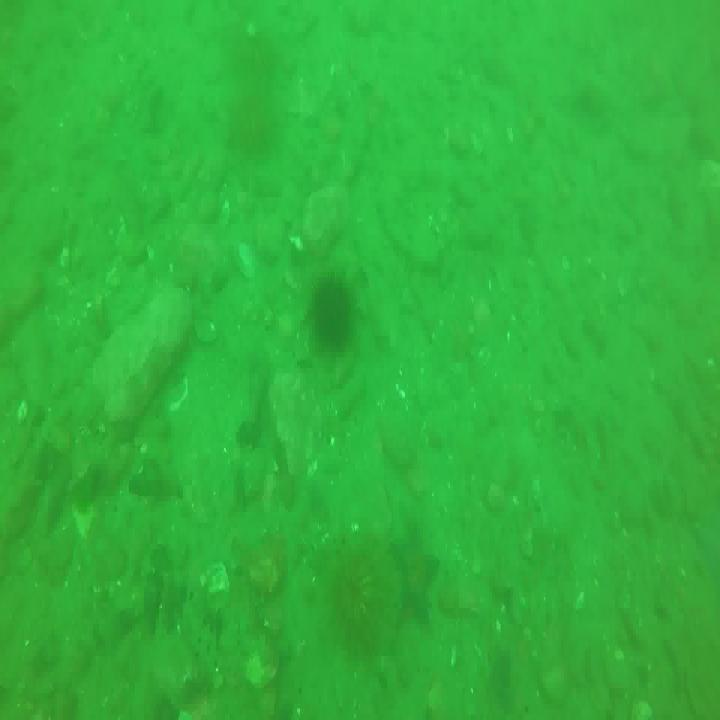echinus: (314, 534, 390, 664), (308, 276, 356, 344)
starfish: (389, 531, 436, 621)
